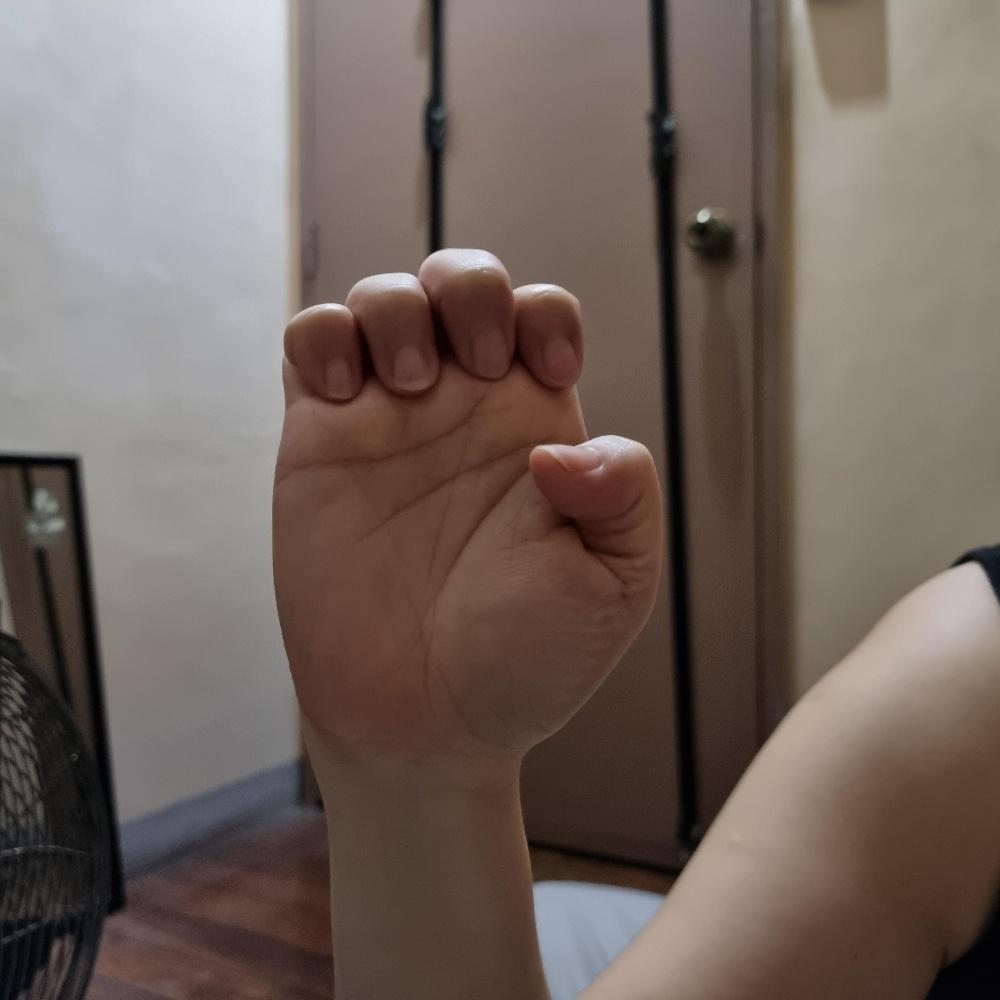e: (266, 234, 669, 778)
